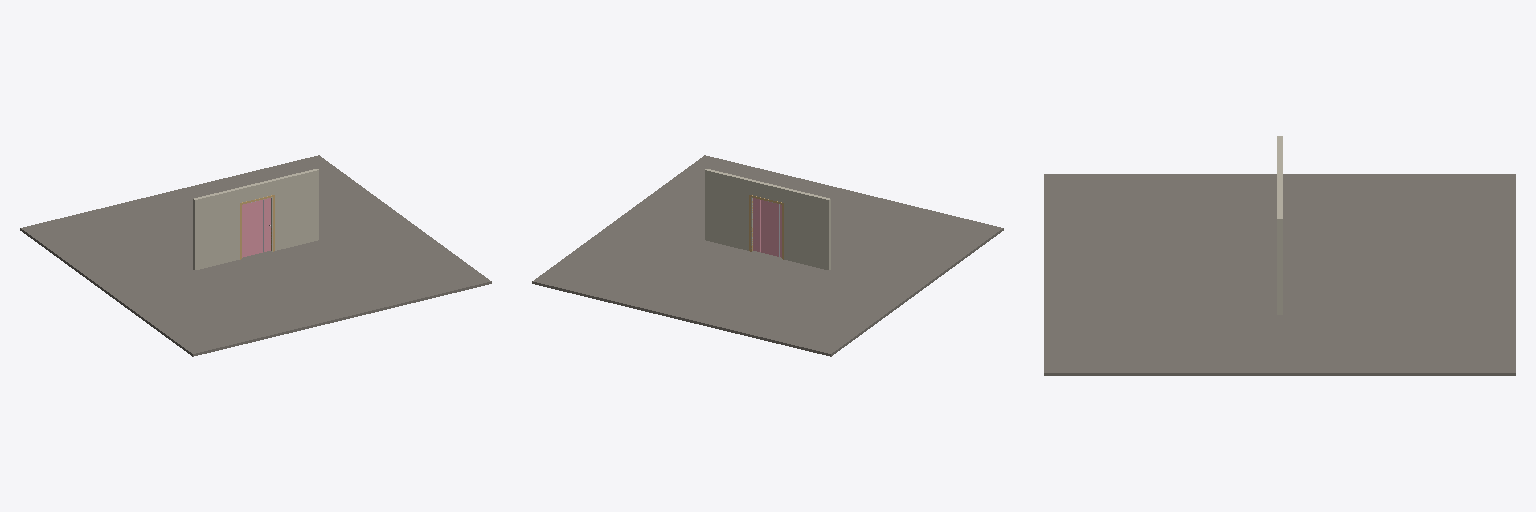
URDF robot description (db0473_accordion_full):
<?xml version="1.0" ?>
<robot xmlns:doorbench="https://github.com/adamraudonis/DoorBench/schema/urdf-ext" name="db0473_accordion_full">
  <link name="world_env">
    <visual name="floor_vis">
      <origin xyz="0 0 -0.05" rpy="0 0 0"/>
      <geometry>
        <box size="12 12 0.1"/>
      </geometry>
      <material name="mat_floor"/>
    </visual>
    <collision name="floor_col">
      <origin xyz="0 0 -0.05" rpy="0 0 0"/>
      <geometry>
        <box size="12 12 0.1"/>
      </geometry>
    </collision>
    <visual name="wall_left_vis">
      <origin xyz="-1.558 0 1.35" rpy="0 0 0"/>
      <geometry>
        <box size="1.884 0.145 2.7"/>
      </geometry>
      <material name="mat_wall"/>
    </visual>
    <collision name="wall_left_col">
      <origin xyz="-1.558 0 1.35" rpy="0 0 0"/>
      <geometry>
        <box size="1.884 0.145 2.7"/>
      </geometry>
    </collision>
    <visual name="wall_right_vis">
      <origin xyz="1.558 0 1.35" rpy="0 0 0"/>
      <geometry>
        <box size="1.884 0.145 2.7"/>
      </geometry>
      <material name="mat_wall"/>
    </visual>
    <collision name="wall_right_col">
      <origin xyz="1.558 0 1.35" rpy="0 0 0"/>
      <geometry>
        <box size="1.884 0.145 2.7"/>
      </geometry>
    </collision>
    <visual name="wall_header_vis">
      <origin xyz="0 0 2.3935" rpy="0 0 0"/>
      <geometry>
        <box size="1.232 0.145 0.613"/>
      </geometry>
      <material name="mat_wall"/>
    </visual>
    <collision name="wall_header_col">
      <origin xyz="0 0 2.3935" rpy="0 0 0"/>
      <geometry>
        <box size="1.232 0.145 0.613"/>
      </geometry>
    </collision>
    <visual name="jamb_hinge_vis">
      <origin xyz="-0.6255 0 1.0435" rpy="0 0 0"/>
      <geometry>
        <box size="0.019 0.145 2.087"/>
      </geometry>
      <material name="mat_frame"/>
    </visual>
    <collision name="jamb_hinge_col">
      <origin xyz="-0.6255 0 1.0435" rpy="0 0 0"/>
      <geometry>
        <box size="0.019 0.145 2.087"/>
      </geometry>
    </collision>
    <visual name="jamb_strike_vis">
      <origin xyz="0.6255 0 1.0435" rpy="0 0 0"/>
      <geometry>
        <box size="0.019 0.145 2.087"/>
      </geometry>
      <material name="mat_frame"/>
    </visual>
    <collision name="jamb_strike_col">
      <origin xyz="0.6255 0 1.0435" rpy="0 0 0"/>
      <geometry>
        <box size="0.019 0.145 2.087"/>
      </geometry>
    </collision>
    <visual name="stud_strike_vis">
      <origin xyz="0.65 0 1.0435" rpy="0 0 0"/>
      <geometry>
        <box size="0.03 0.145 2.087"/>
      </geometry>
      <material name="mat_wall"/>
    </visual>
    <collision name="stud_strike_col">
      <origin xyz="0.65 0 1.0435" rpy="0 0 0"/>
      <geometry>
        <box size="0.03 0.145 2.087"/>
      </geometry>
    </collision>
    <visual name="jamb_head_vis">
      <origin xyz="0.015 0 2.0965" rpy="0 0 0"/>
      <geometry>
        <box size="1.3 0.145 0.019"/>
      </geometry>
      <material name="mat_frame"/>
    </visual>
    <collision name="jamb_head_col">
      <origin xyz="0.015 0 2.0965" rpy="0 0 0"/>
      <geometry>
        <box size="1.3 0.145 0.019"/>
      </geometry>
    </collision>
    <visual name="head_stud_vis">
      <origin xyz="0.015 0 2.121" rpy="0 0 0"/>
      <geometry>
        <box size="1.3 0.145 0.03"/>
      </geometry>
      <material name="mat_wall"/>
    </visual>
    <collision name="head_stud_col">
      <origin xyz="0.015 0 2.121" rpy="0 0 0"/>
      <geometry>
        <box size="1.3 0.145 0.03"/>
      </geometry>
    </collision>
    <visual name="casing_l_n_vis">
      <origin xyz="-0.665 -0.0805 1.0435" rpy="0 0 0"/>
      <geometry>
        <box size="0.07 0.016 2.106"/>
      </geometry>
      <material name="mat_frame"/>
    </visual>
    <visual name="casing_r_n_vis">
      <origin xyz="0.665 -0.0805 1.0435" rpy="0 0 0"/>
      <geometry>
        <box size="0.07 0.016 2.106"/>
      </geometry>
      <material name="mat_frame"/>
    </visual>
    <visual name="casing_h_n_vis">
      <origin xyz="0 -0.0805 2.136" rpy="0 0 0"/>
      <geometry>
        <box size="1.4 0.016 0.07"/>
      </geometry>
      <material name="mat_frame"/>
    </visual>
    <visual name="casing_l_p_vis">
      <origin xyz="-0.665 0.0805 1.0435" rpy="0 0 0"/>
      <geometry>
        <box size="0.07 0.016 2.106"/>
      </geometry>
      <material name="mat_frame"/>
    </visual>
    <visual name="casing_r_p_vis">
      <origin xyz="0.665 0.0805 1.0435" rpy="0 0 0"/>
      <geometry>
        <box size="0.07 0.016 2.106"/>
      </geometry>
      <material name="mat_frame"/>
    </visual>
    <visual name="casing_h_p_vis">
      <origin xyz="0 0.0805 2.136" rpy="0 0 0"/>
      <geometry>
        <box size="1.4 0.016 0.07"/>
      </geometry>
      <material name="mat_frame"/>
    </visual>
    <visual name="fold_track_vis">
      <origin xyz="0 0 2.072" rpy="0 0 0"/>
      <geometry>
        <box size="1.232 0.04 0.03"/>
      </geometry>
      <material name="mat_track"/>
    </visual>
  </link>
  <link name="panel_0_0">
    <inertial>
      <origin xyz="0.042165 0 1.044017" rpy="0 0 0"/>
      <mass value="4.912699"/>
      <inertia ixx="1.716907106" ixy="0" ixz="0.001660569" iyy="1.725384514" iyz="0" izz="0.008741841"/>
    </inertial>
    <visual name="panel_0_0_slab_vis">
      <origin xyz="0.0425 0 1.036" rpy="0 0 0"/>
      <geometry>
        <box size="0.145 0.018 2.032"/>
      </geometry>
      <material name="mat_panel_0_0"/>
    </visual>
    <collision name="panel_0_0_slab_col">
      <origin xyz="0.0425 0 1.036" rpy="0 0 0"/>
      <geometry>
        <box size="0.145 0.018 2.032"/>
      </geometry>
    </collision>
    <visual name="panel_0_0_pivot_pin_vis">
      <origin xyz="0 0 2.0525" rpy="0 0 0"/>
      <geometry>
        <cylinder radius="0.008" length="0.021"/>
      </geometry>
      <material name="mat_hinge"/>
    </visual>
  </link>
  <link name="panel_0_1">
    <inertial>
      <origin xyz="0.000407 -0.000048 1.036" rpy="0 0 0"/>
      <mass value="5.128823"/>
      <inertia ixx="1.730398645" ixy="0.000018698" ixz="0" iyy="1.730603748" iyz="0" izz="0.000262667"/>
    </inertial>
    <visual name="panel_0_1_slab_vis">
      <origin xyz="0.076 -0.009 1.036" rpy="0 0 0"/>
      <geometry>
        <box size="0.148 0.018 2.032"/>
      </geometry>
      <material name="mat_panel_0_1"/>
    </visual>
    <collision name="panel_0_1_slab_col">
      <origin xyz="0.076 -0.009 1.036" rpy="0 0 0"/>
      <geometry>
        <box size="0.148 0.018 2.032"/>
      </geometry>
    </collision>
    <visual name="panel_0_1_knuckle_vis">
      <origin xyz="0 0 1.036" rpy="0 0 0"/>
      <geometry>
        <cylinder radius="0.0045" length="2.012"/>
      </geometry>
      <material name="mat_hinge"/>
    </visual>
  </link>
  <link name="panel_0_2">
    <inertial>
      <origin xyz="0.000407 0.000048 1.036" rpy="0 0 0"/>
      <mass value="5.128823"/>
      <inertia ixx="1.730398645" ixy="-0.000018698" ixz="0" iyy="1.730603748" iyz="0" izz="0.000262667"/>
    </inertial>
    <visual name="panel_0_2_slab_vis">
      <origin xyz="0.076 0.009 1.036" rpy="0 0 0"/>
      <geometry>
        <box size="0.148 0.018 2.032"/>
      </geometry>
      <material name="mat_panel_0_2"/>
    </visual>
    <collision name="panel_0_2_slab_col">
      <origin xyz="0.076 0.009 1.036" rpy="0 0 0"/>
      <geometry>
        <box size="0.148 0.018 2.032"/>
      </geometry>
    </collision>
    <visual name="panel_0_2_knuckle_vis">
      <origin xyz="0 0 1.036" rpy="0 0 0"/>
      <geometry>
        <cylinder radius="0.0045" length="2.012"/>
      </geometry>
      <material name="mat_hinge"/>
    </visual>
  </link>
  <link name="panel_0_3">
    <inertial>
      <origin xyz="0.000407 -0.000048 1.036" rpy="0 0 0"/>
      <mass value="5.128823"/>
      <inertia ixx="1.730398645" ixy="0.000018698" ixz="0" iyy="1.730603748" iyz="0" izz="0.000262667"/>
    </inertial>
    <visual name="panel_0_3_slab_vis">
      <origin xyz="0.076 -0.009 1.036" rpy="0 0 0"/>
      <geometry>
        <box size="0.148 0.018 2.032"/>
      </geometry>
      <material name="mat_panel_0_3"/>
    </visual>
    <collision name="panel_0_3_slab_col">
      <origin xyz="0.076 -0.009 1.036" rpy="0 0 0"/>
      <geometry>
        <box size="0.148 0.018 2.032"/>
      </geometry>
    </collision>
    <visual name="panel_0_3_knuckle_vis">
      <origin xyz="0 0 1.036" rpy="0 0 0"/>
      <geometry>
        <cylinder radius="0.0045" length="2.012"/>
      </geometry>
      <material name="mat_hinge"/>
    </visual>
  </link>
  <link name="panel_0_4">
    <inertial>
      <origin xyz="0.000407 0.000048 1.036" rpy="0 0 0"/>
      <mass value="5.128823"/>
      <inertia ixx="1.730398645" ixy="-0.000018698" ixz="0" iyy="1.730603748" iyz="0" izz="0.000262667"/>
    </inertial>
    <visual name="panel_0_4_slab_vis">
      <origin xyz="0.076 0.009 1.036" rpy="0 0 0"/>
      <geometry>
        <box size="0.148 0.018 2.032"/>
      </geometry>
      <material name="mat_panel_0_4"/>
    </visual>
    <collision name="panel_0_4_slab_col">
      <origin xyz="0.076 0.009 1.036" rpy="0 0 0"/>
      <geometry>
        <box size="0.148 0.018 2.032"/>
      </geometry>
    </collision>
    <visual name="panel_0_4_knuckle_vis">
      <origin xyz="0 0 1.036" rpy="0 0 0"/>
      <geometry>
        <cylinder radius="0.0045" length="2.012"/>
      </geometry>
      <material name="mat_hinge"/>
    </visual>
  </link>
  <link name="panel_0_5">
    <inertial>
      <origin xyz="0.000407 -0.000048 1.036" rpy="0 0 0"/>
      <mass value="5.128823"/>
      <inertia ixx="1.730398645" ixy="0.000018698" ixz="0" iyy="1.730603748" iyz="0" izz="0.000262667"/>
    </inertial>
    <visual name="panel_0_5_slab_vis">
      <origin xyz="0.076 -0.009 1.036" rpy="0 0 0"/>
      <geometry>
        <box size="0.148 0.018 2.032"/>
      </geometry>
      <material name="mat_panel_0_5"/>
    </visual>
    <collision name="panel_0_5_slab_col">
      <origin xyz="0.076 -0.009 1.036" rpy="0 0 0"/>
      <geometry>
        <box size="0.148 0.018 2.032"/>
      </geometry>
    </collision>
    <visual name="panel_0_5_knuckle_vis">
      <origin xyz="0 0 1.036" rpy="0 0 0"/>
      <geometry>
        <cylinder radius="0.0045" length="2.012"/>
      </geometry>
      <material name="mat_hinge"/>
    </visual>
  </link>
  <link name="panel_0_6">
    <inertial>
      <origin xyz="0.000407 0.000048 1.036" rpy="0 0 0"/>
      <mass value="5.128823"/>
      <inertia ixx="1.730398645" ixy="-0.000018698" ixz="0" iyy="1.730603748" iyz="0" izz="0.000262667"/>
    </inertial>
    <visual name="panel_0_6_slab_vis">
      <origin xyz="0.076 0.009 1.036" rpy="0 0 0"/>
      <geometry>
        <box size="0.148 0.018 2.032"/>
      </geometry>
      <material name="mat_panel_0_6"/>
    </visual>
    <collision name="panel_0_6_slab_col">
      <origin xyz="0.076 0.009 1.036" rpy="0 0 0"/>
      <geometry>
        <box size="0.148 0.018 2.032"/>
      </geometry>
    </collision>
    <visual name="panel_0_6_knuckle_vis">
      <origin xyz="0 0 1.036" rpy="0 0 0"/>
      <geometry>
        <cylinder radius="0.0045" length="2.012"/>
      </geometry>
      <material name="mat_hinge"/>
    </visual>
  </link>
  <link name="panel_0_7">
    <inertial>
      <origin xyz="0.014034 -0.004675 1.031423" rpy="0 0 0"/>
      <mass value="5.421673"/>
      <inertia ixx="1.598372278" ixy="0.002357485" ixz="0.002314597" iyy="1.604616128" iyz="-0.000787813" izz="0.008083989"/>
    </inertial>
    <visual name="panel_0_7_slab_vis">
      <origin xyz="0.079655 -0.009 1.036" rpy="0 0 0"/>
      <geometry>
        <box size="0.155309 0.018 2.032"/>
      </geometry>
      <material name="mat_panel_0_7"/>
    </visual>
    <collision name="panel_0_7_slab_col">
      <origin xyz="0.079655 -0.009 1.036" rpy="0 0 0"/>
      <geometry>
        <box size="0.155309 0.018 2.032"/>
      </geometry>
    </collision>
    <visual name="panel_0_7_knuckle_vis">
      <origin xyz="0 0 1.036" rpy="0 0 0"/>
      <geometry>
        <cylinder radius="0.0045" length="2.012"/>
      </geometry>
      <material name="mat_hinge"/>
    </visual>
    <visual name="panel_0_7_knob_vis">
      <origin xyz="0.107309 -0.018 1" rpy="1.570796 0 0"/>
      <geometry>
        <mesh filename="../../hardware/knob_13f7a2a65f.obj"/>
      </geometry>
      <material name="mat_op_nickel_satin"/>
    </visual>
    <visual name="panel_0_7_knob_col_vis">
      <origin xyz="0.107309 -0.048 1" rpy="0 0 0"/>
      <geometry>
        <sphere radius="0.016"/>
      </geometry>
      <material name="mat_op_nickel_satin"/>
    </visual>
    <collision name="panel_0_7_knob_col_col">
      <origin xyz="0.107309 -0.048 1" rpy="0 0 0"/>
      <geometry>
        <sphere radius="0.016"/>
      </geometry>
    </collision>
    <visual name="panel_0_7_knob_rose_vis">
      <origin xyz="0.107309 -0.023 1" rpy="-1.570796 0 0"/>
      <geometry>
        <cylinder radius="0.022" length="0.01"/>
      </geometry>
      <material name="mat_op_nickel_satin"/>
    </visual>
  </link>
  <joint name="panel_0_0_hinge" type="revolute">
    <origin xyz="-0.581 0 0" rpy="0 0 0"/>
    <parent link="world_env"/>
    <child link="panel_0_0"/>
    <axis xyz="0 0 -1"/>
    <limit lower="0" upper="1.48353" effort="2000" velocity="10"/>
    <dynamics damping="1.011073" friction="6.38875"/>
  </joint>
  <joint name="panel_0_1_hinge" type="revolute">
    <origin xyz="0.117 0.009 0" rpy="0 0 0"/>
    <parent link="panel_0_0"/>
    <child link="panel_0_1"/>
    <axis xyz="0 0 -1"/>
    <limit lower="-3.141593" upper="0" effort="2000" velocity="10"/>
    <dynamics damping="0.2" friction="0.1"/>
    <mimic joint="panel_0_0_hinge" multiplier="-2" offset="0"/>
  </joint>
  <joint name="panel_0_2_hinge" type="revolute">
    <origin xyz="0.152 -0.018 0" rpy="0 0 0"/>
    <parent link="panel_0_1"/>
    <child link="panel_0_2"/>
    <axis xyz="0 0 -1"/>
    <limit lower="0" upper="3.141593" effort="2000" velocity="10"/>
    <dynamics damping="0.2" friction="0.1"/>
    <mimic joint="panel_0_0_hinge" multiplier="2" offset="0"/>
  </joint>
  <joint name="panel_0_3_hinge" type="revolute">
    <origin xyz="0.152 0.018 0" rpy="0 0 0"/>
    <parent link="panel_0_2"/>
    <child link="panel_0_3"/>
    <axis xyz="0 0 -1"/>
    <limit lower="-3.141593" upper="0" effort="2000" velocity="10"/>
    <dynamics damping="0.2" friction="0.1"/>
    <mimic joint="panel_0_0_hinge" multiplier="-2" offset="0"/>
  </joint>
  <joint name="panel_0_4_hinge" type="revolute">
    <origin xyz="0.152 -0.018 0" rpy="0 0 0"/>
    <parent link="panel_0_3"/>
    <child link="panel_0_4"/>
    <axis xyz="0 0 -1"/>
    <limit lower="0" upper="3.141593" effort="2000" velocity="10"/>
    <dynamics damping="0.2" friction="0.1"/>
    <mimic joint="panel_0_0_hinge" multiplier="2" offset="0"/>
  </joint>
  <joint name="panel_0_5_hinge" type="revolute">
    <origin xyz="0.152 0.018 0" rpy="0 0 0"/>
    <parent link="panel_0_4"/>
    <child link="panel_0_5"/>
    <axis xyz="0 0 -1"/>
    <limit lower="-3.141593" upper="0" effort="2000" velocity="10"/>
    <dynamics damping="0.2" friction="0.1"/>
    <mimic joint="panel_0_0_hinge" multiplier="-2" offset="0"/>
  </joint>
  <joint name="panel_0_6_hinge" type="revolute">
    <origin xyz="0.152 -0.018 0" rpy="0 0 0"/>
    <parent link="panel_0_5"/>
    <child link="panel_0_6"/>
    <axis xyz="0 0 -1"/>
    <limit lower="0" upper="3.141593" effort="2000" velocity="10"/>
    <dynamics damping="0.2" friction="0.1"/>
    <mimic joint="panel_0_0_hinge" multiplier="2" offset="0"/>
  </joint>
  <joint name="panel_0_7_hinge" type="revolute">
    <origin xyz="0.152 0.018 0" rpy="0 0 0"/>
    <parent link="panel_0_6"/>
    <child link="panel_0_7"/>
    <axis xyz="0 0 -1"/>
    <limit lower="-3.141593" upper="0" effort="2000" velocity="10"/>
    <dynamics damping="0.2" friction="0.1"/>
    <mimic joint="panel_0_0_hinge" multiplier="-2" offset="0"/>
  </joint>
  <material name="mat_floor">
    <color rgba="0.55 0.53 0.5 1"/>
  </material>
  <material name="mat_frame">
    <color rgba="0.82 0.7 0.5 1"/>
  </material>
  <material name="mat_hinge">
    <color rgba="0.65 0.66 0.68 1"/>
  </material>
  <material name="mat_op_nickel_satin">
    <color rgba="0.72 0.7 0.66 1"/>
  </material>
  <material name="mat_panel_0_0">
    <color rgba="0.9 0.65 0.7 1"/>
  </material>
  <material name="mat_panel_0_1">
    <color rgba="0.9 0.65 0.7 1"/>
  </material>
  <material name="mat_panel_0_2">
    <color rgba="0.9 0.65 0.7 1"/>
  </material>
  <material name="mat_panel_0_3">
    <color rgba="0.9 0.65 0.7 1"/>
  </material>
  <material name="mat_panel_0_4">
    <color rgba="0.9 0.65 0.7 1"/>
  </material>
  <material name="mat_panel_0_5">
    <color rgba="0.9 0.65 0.7 1"/>
  </material>
  <material name="mat_panel_0_6">
    <color rgba="0.9 0.65 0.7 1"/>
  </material>
  <material name="mat_panel_0_7">
    <color rgba="0.9 0.65 0.7 1"/>
  </material>
  <material name="mat_track">
    <color rgba="0.8 0.81 0.83 1"/>
  </material>
  <material name="mat_wall">
    <color rgba="0.78 0.76 0.7 1"/>
  </material>
</robot>

--- What the picture shows (computed from the rendered views, not written in the file) ---
The picture shows the robot from 3 angles, left to right: view 1: azimuth 30°, elevation 25°; view 2: azimuth 150°, elevation 25°; view 3: azimuth 270°, elevation 25°; orthographic projection.
Robot: db0473_accordion_full — 9 links, 8 joints (8 revolute); root link world_env; default pose: all joints at 0.
Visible links, largest first — view 1: world_env; view 2: world_env; view 3: world_env.
Link boxes in pixels (left/top/right/bottom): world_env: left=20, top=155, right=491, bottom=356; world_env: left=532, top=155, right=1003, bottom=356; world_env: left=1044, top=136, right=1515, bottom=375.
Bounding box of the posed robot: 12 × 12 × 2.8 m (x, y, z).
Meshes: 1 distinct files referenced, 1 mesh visuals loaded (1 OBJ).
